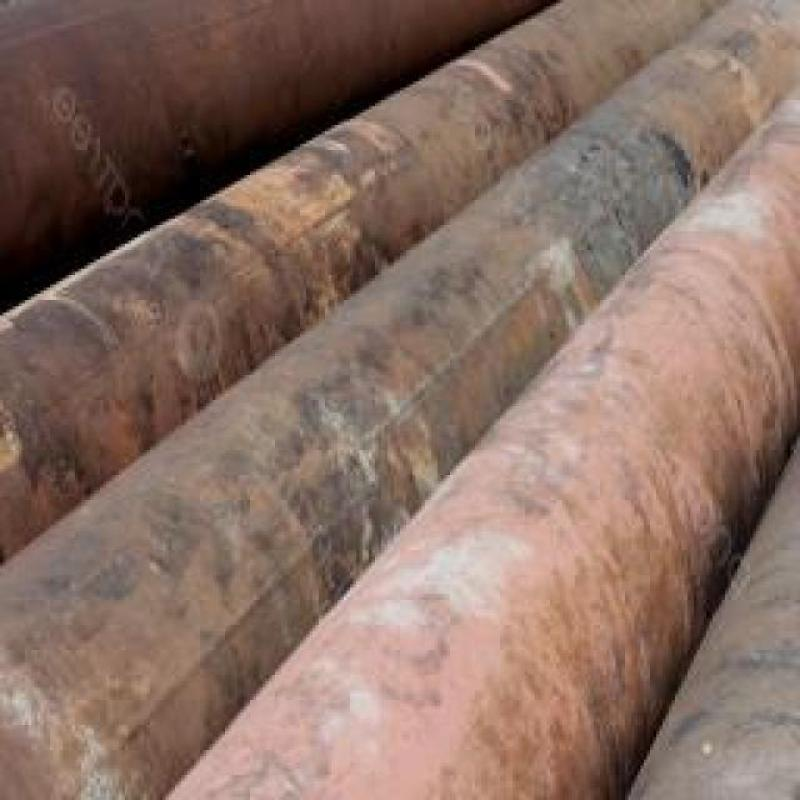corrosion: (6, 2, 800, 790)
